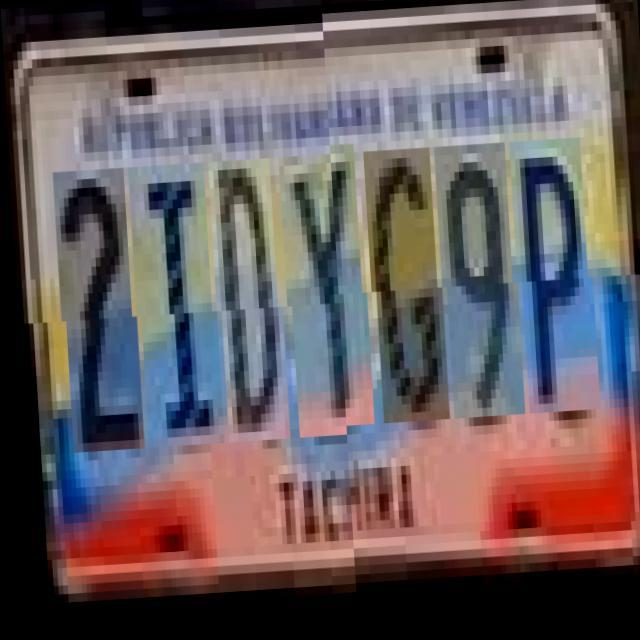2: (55, 169, 139, 453)
9: (437, 158, 520, 434)
D: (210, 162, 284, 446)
G: (366, 162, 445, 437)
I: (130, 165, 219, 449)
P: (512, 154, 596, 430)
Y: (280, 157, 370, 441)
